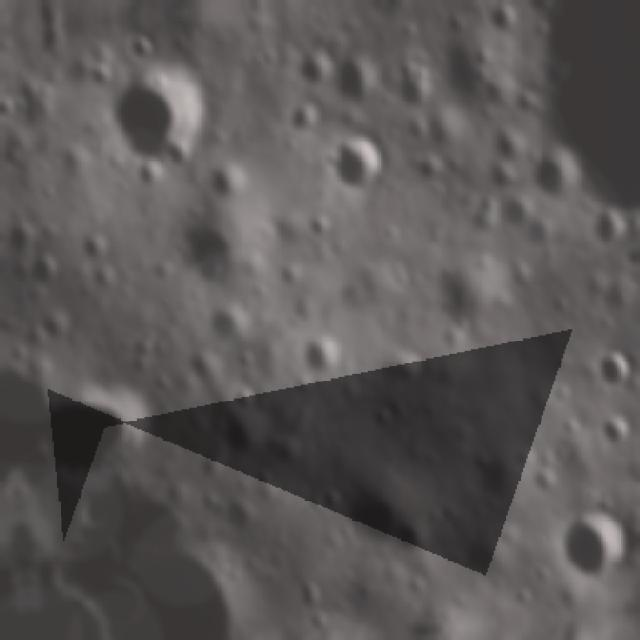crater: (30, 381, 167, 497), (102, 68, 213, 169), (552, 509, 632, 586), (334, 472, 403, 546), (181, 214, 242, 292), (316, 130, 382, 199), (293, 324, 352, 381), (524, 148, 578, 205), (215, 403, 267, 462), (328, 48, 379, 108), (196, 296, 249, 353), (388, 52, 438, 112), (584, 342, 636, 396), (384, 516, 434, 564), (210, 491, 258, 535), (202, 160, 245, 208), (582, 208, 630, 250), (595, 408, 640, 450), (476, 0, 518, 42), (282, 101, 326, 141), (516, 215, 553, 257), (314, 475, 348, 519), (363, 397, 395, 435), (126, 31, 157, 66)
